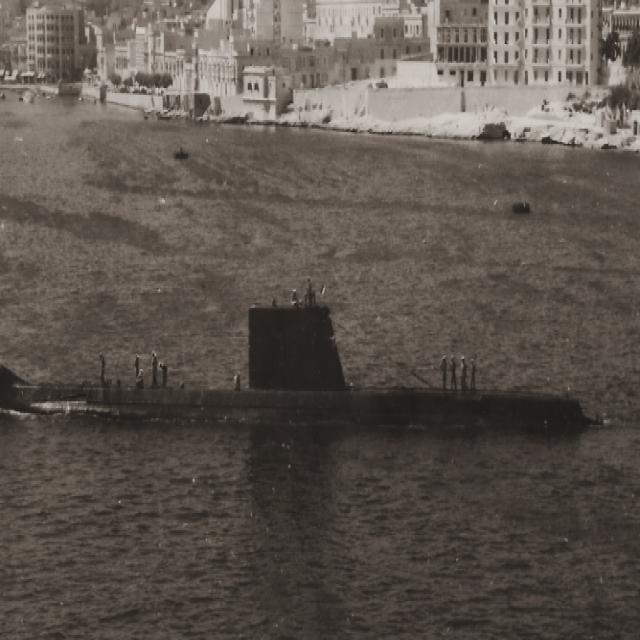submarine: (1, 279, 590, 433)
